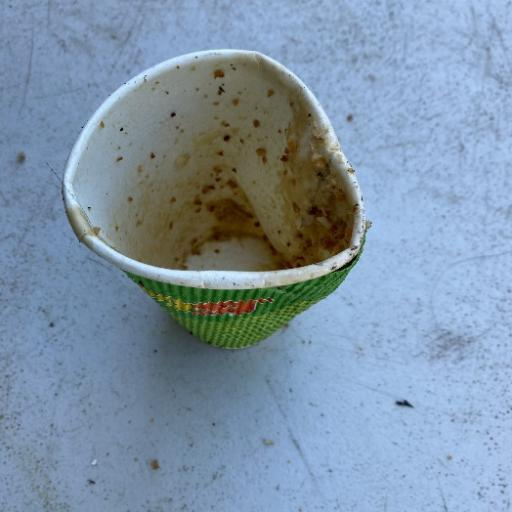Cardboard: (60, 47, 370, 351)
